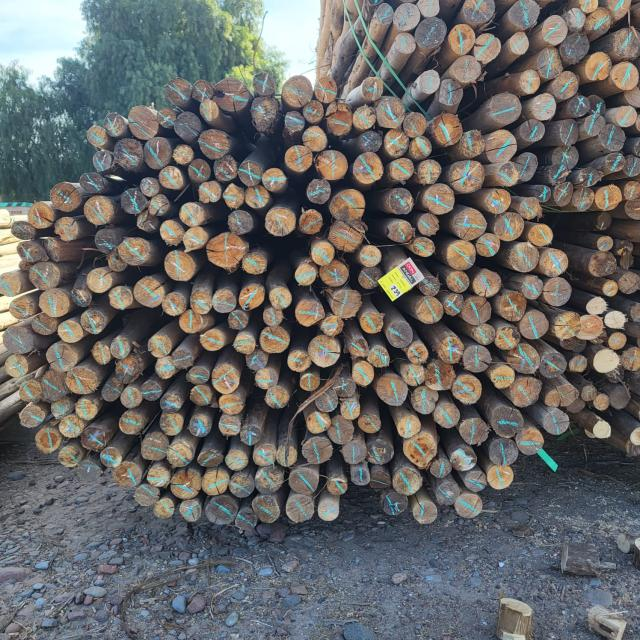package: (0, 69, 582, 530), (357, 1, 640, 210), (576, 200, 640, 456)
